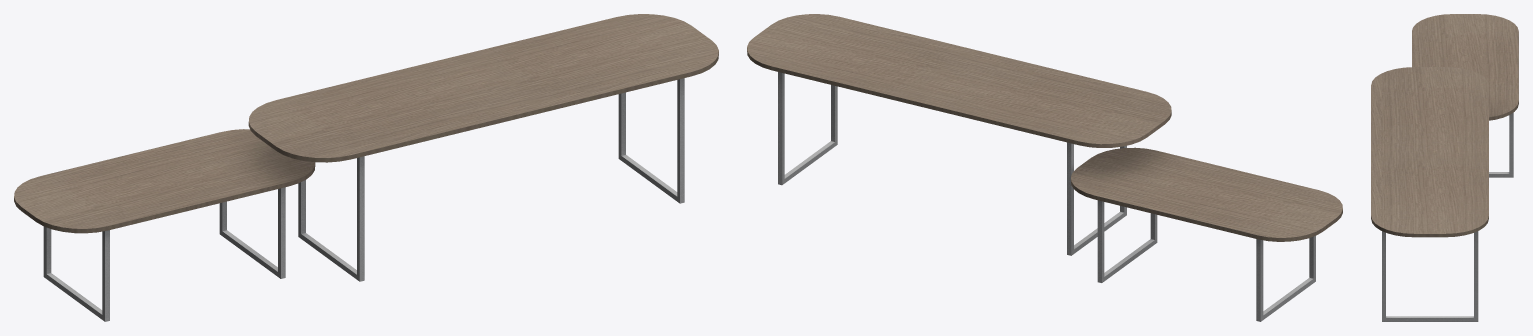
Rendered from Table_Oval.gltf.
3 views of the same model, side by side, from view 1: azimuth 30°, elevation 25°; view 2: azimuth 150°, elevation 25°; view 3: azimuth 270°, elevation 25° (orthographic). The views are drawn at different scales.
Visible parts, largest first — view 1: ovalTable; view 2: ovalTable; view 3: ovalTable.
Boxes of the visible parts, x1,y1,x2,y2 form: ovalTable: [14, 14, 718, 321]; ovalTable: [747, 14, 1342, 321]; ovalTable: [1371, 14, 1518, 321].
Bounding box in the file's own units: 55 × 10.96 × 13.8.
1 material, 1 textured.
